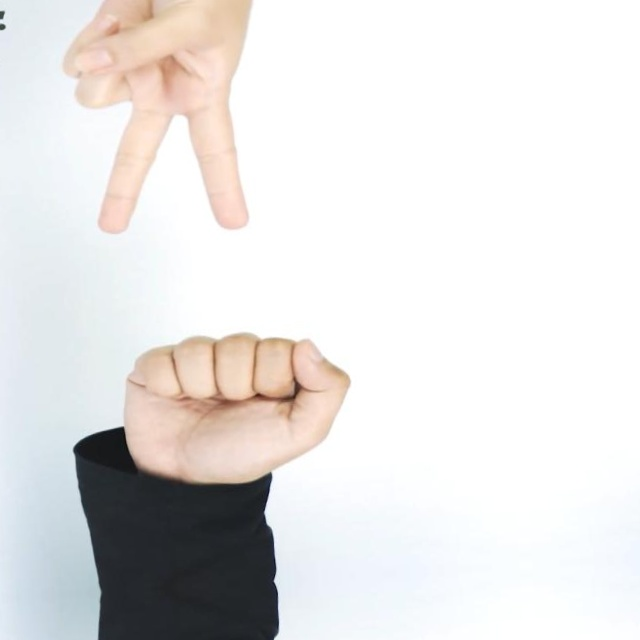Rock: (114, 322, 360, 492)
Scissors: (56, 0, 270, 243)
